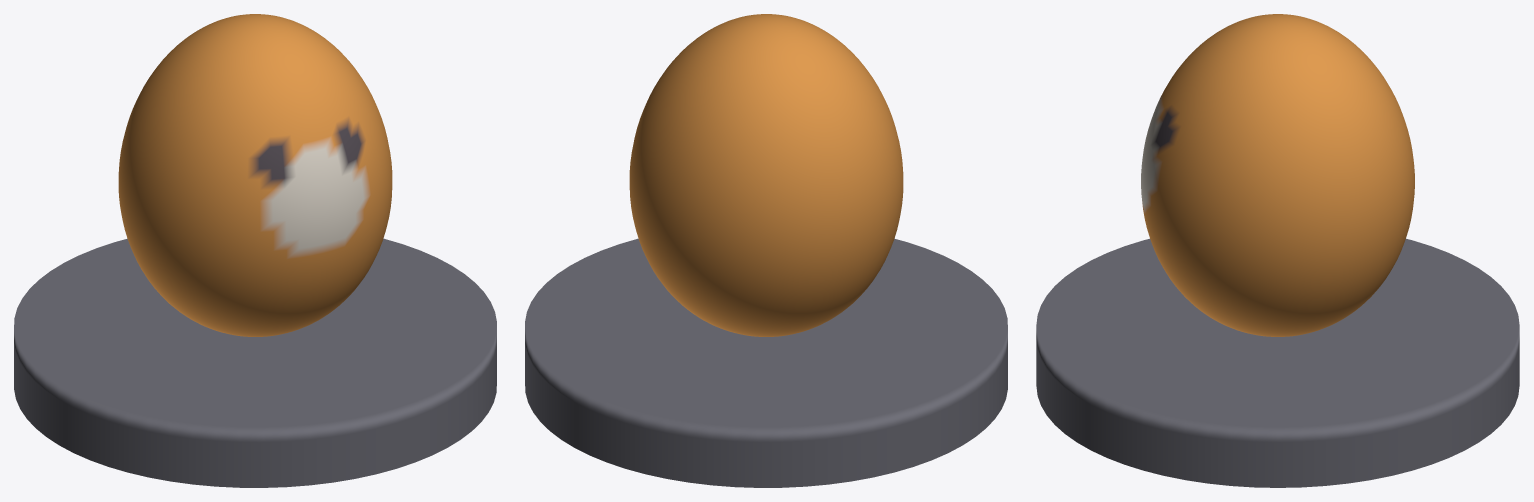
File: result-3d.glb
3 renders of one model, left to right at view 1: azimuth 30°, elevation 25°; view 2: azimuth 150°, elevation 25°; view 3: azimuth 270°, elevation 25°, orthographic.
Parts seen in each view (by area): view 1: Bean; view 2: Bean; view 3: Bean.
Boxes of the visible parts, x1=… form: Bean: x1=14, y1=14, x2=496, y2=487; Bean: x1=525, y1=14, x2=1007, y2=487; Bean: x1=1036, y1=14, x2=1519, y2=487.
Size of the model in its own units: 1.8 by 1.49 by 1.8.
